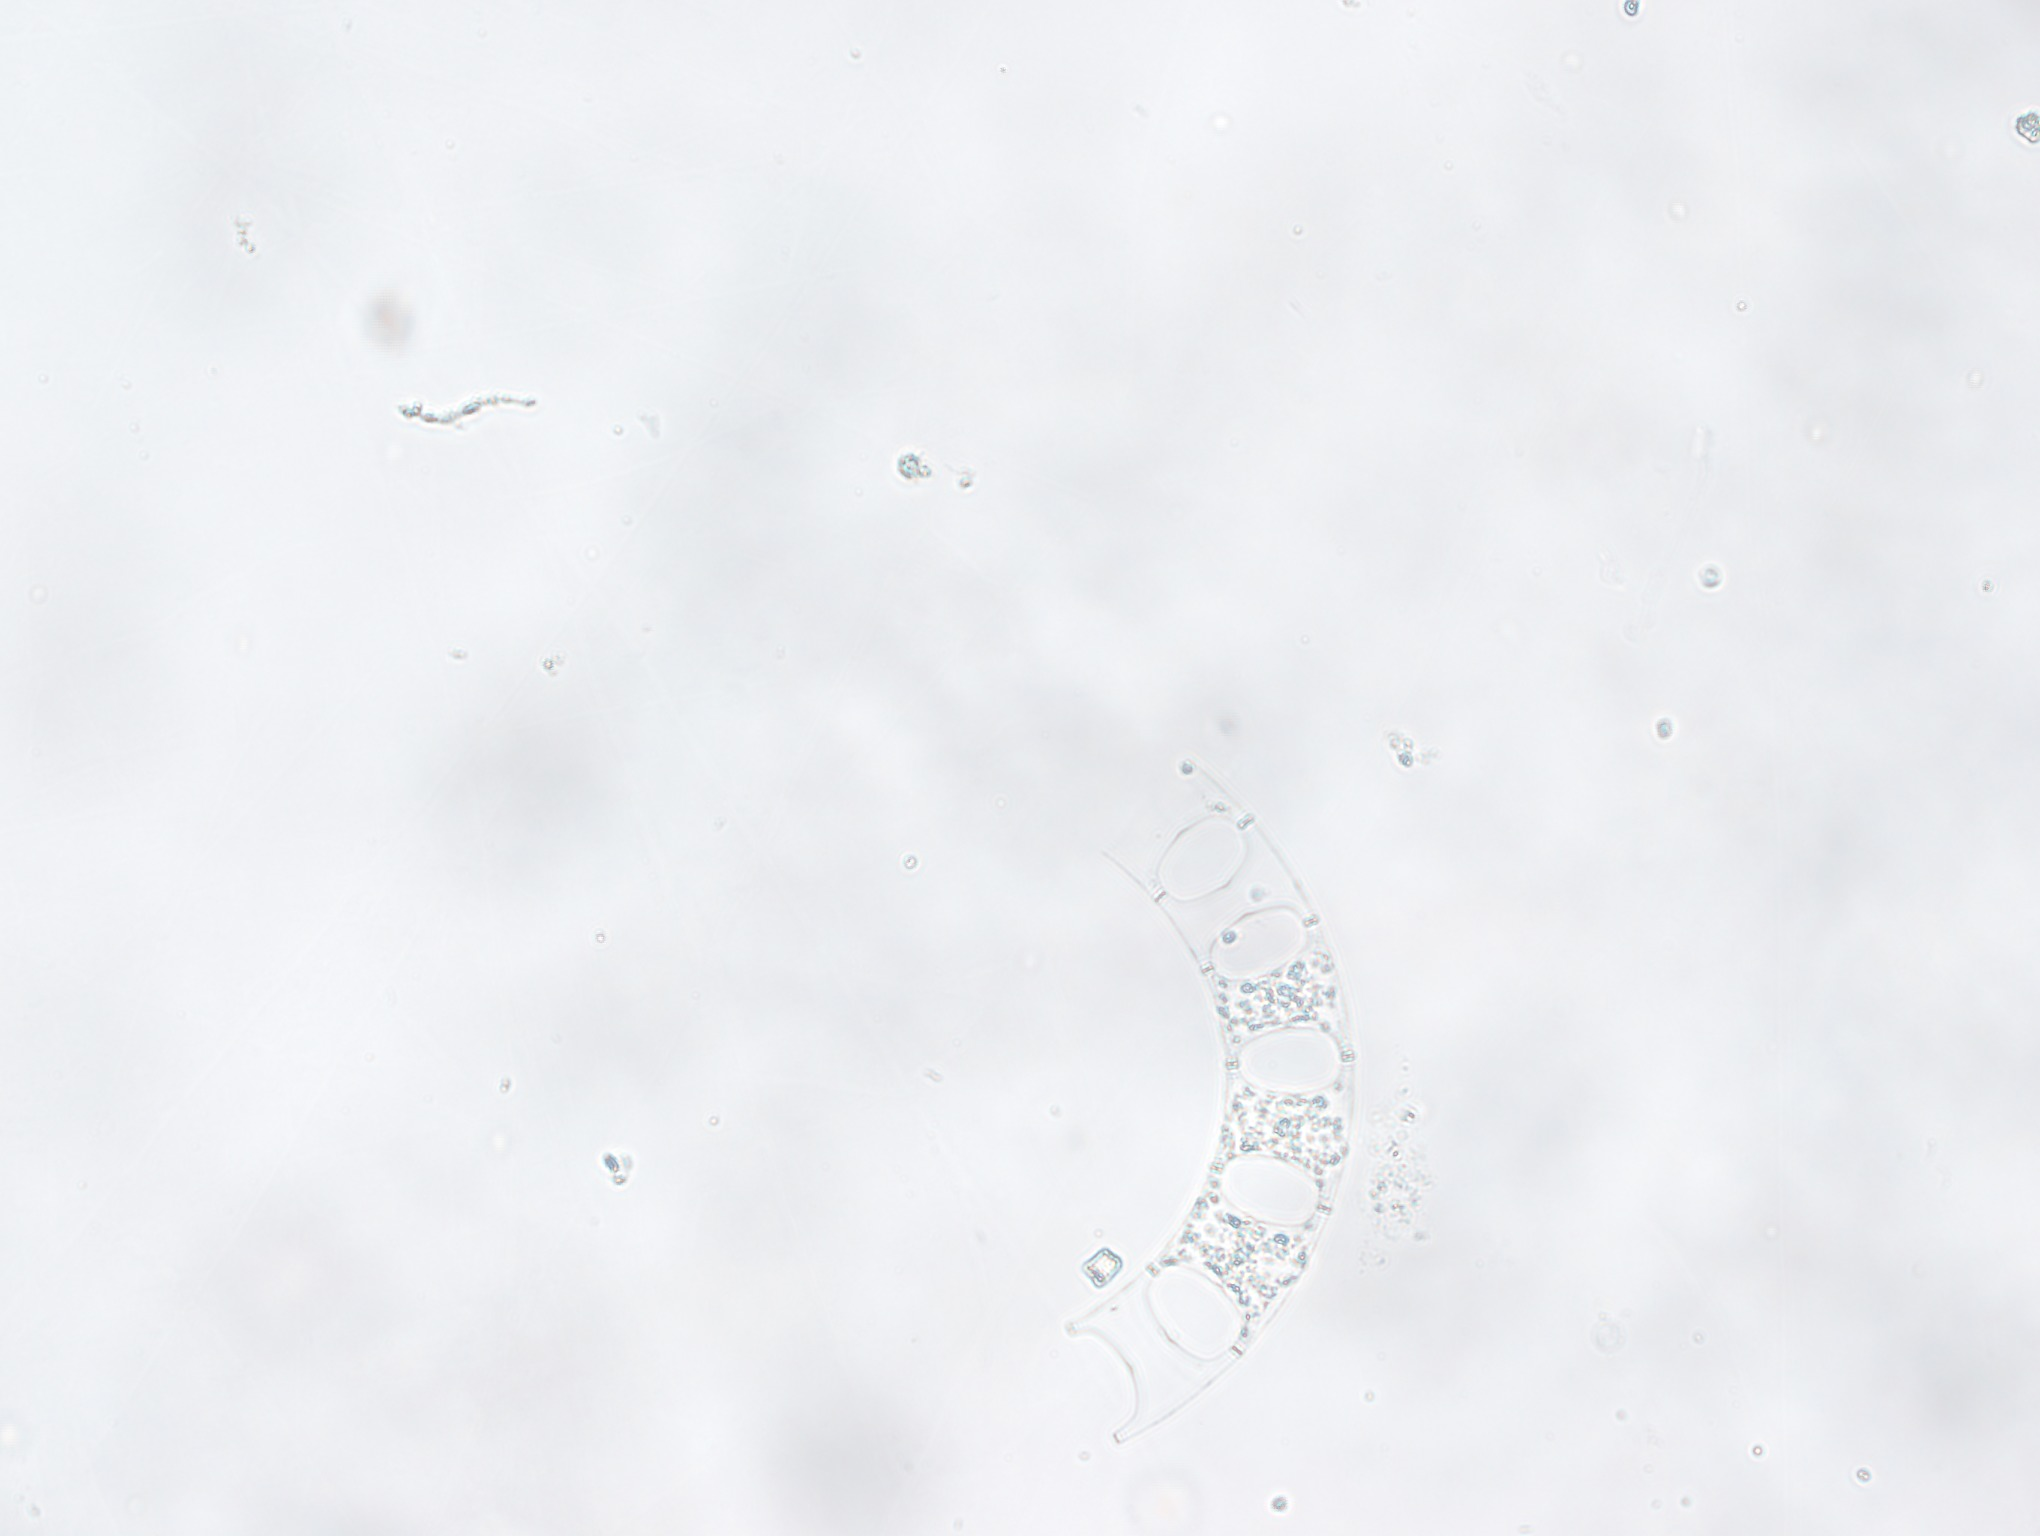eucampia: (1060, 752, 1366, 1450)
